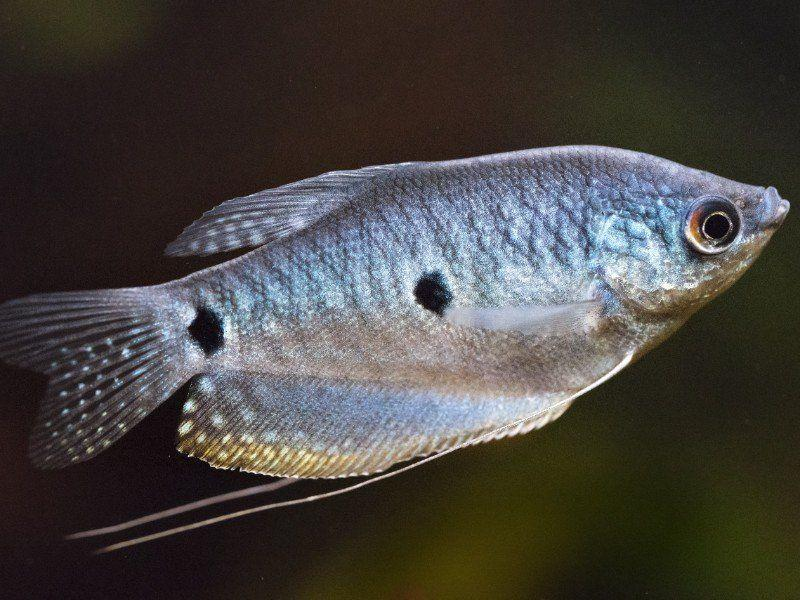Gourami: (7, 133, 793, 573)
